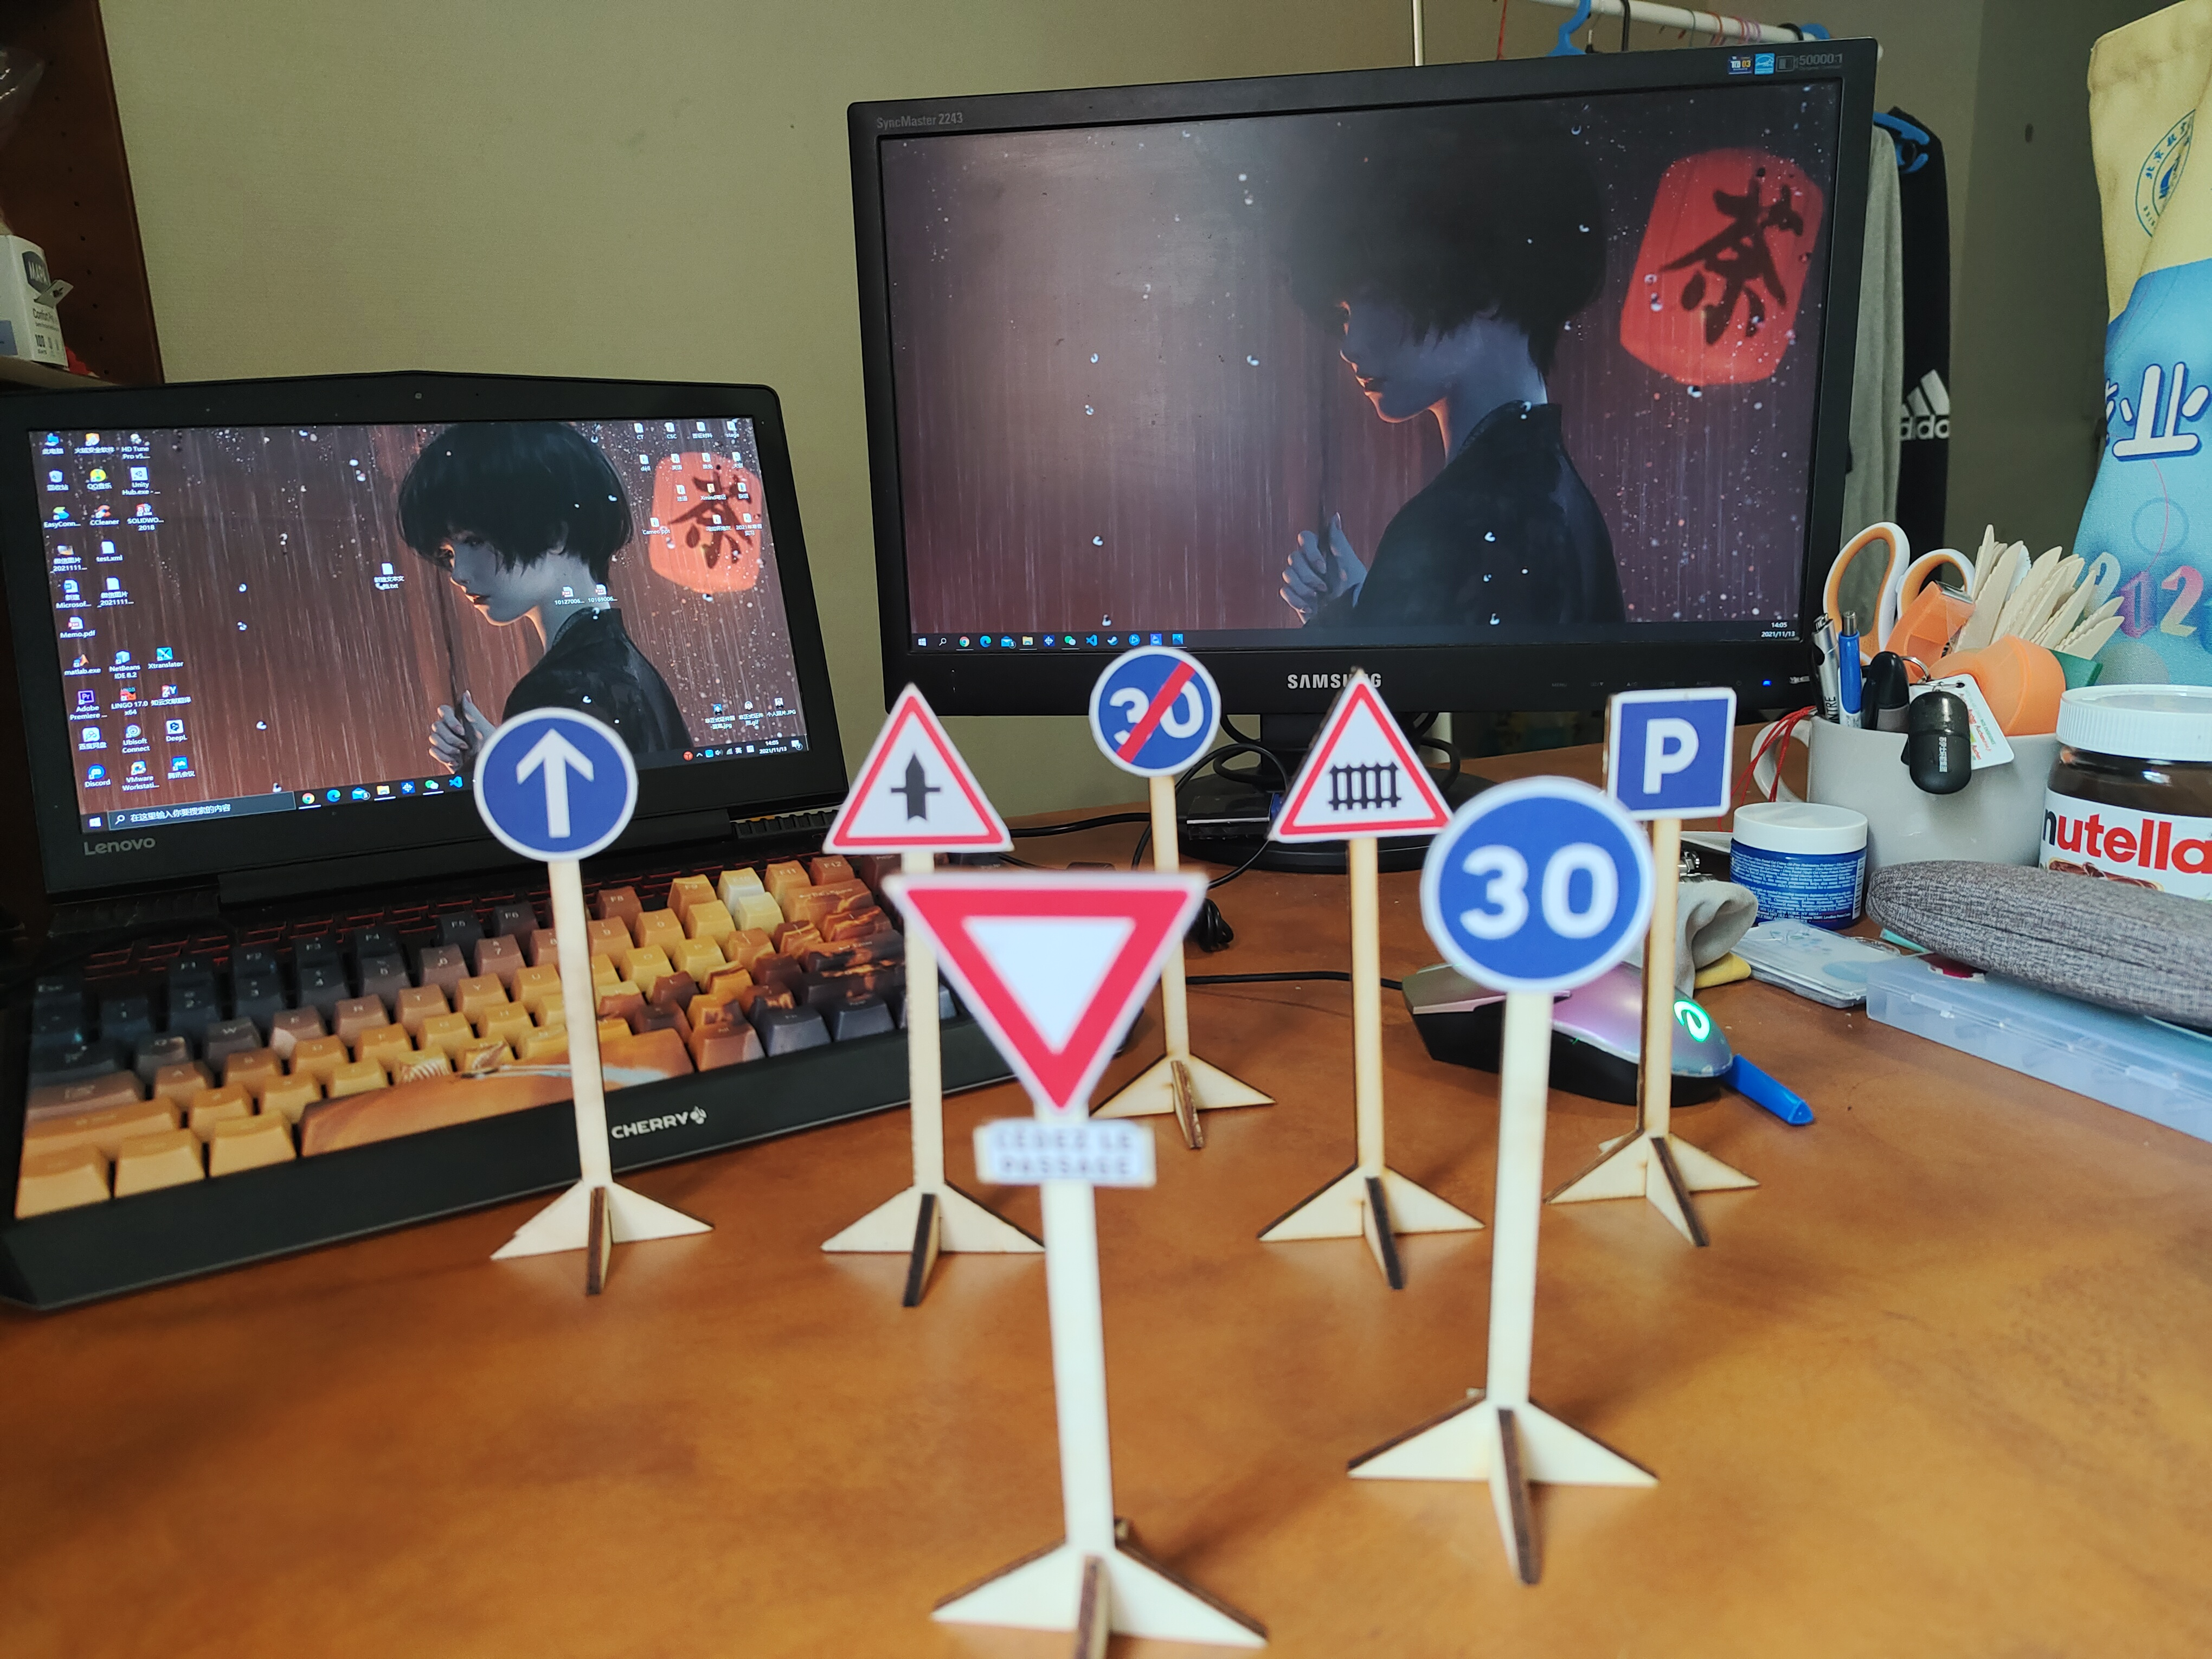P: (1609, 687, 1742, 817)
ban: (1087, 647, 1221, 775)
first: (824, 683, 1017, 850)
second: (885, 875, 1200, 1188)
straight: (470, 704, 641, 861)
thirty: (1425, 781, 1653, 997)
train: (1268, 673, 1453, 840)
